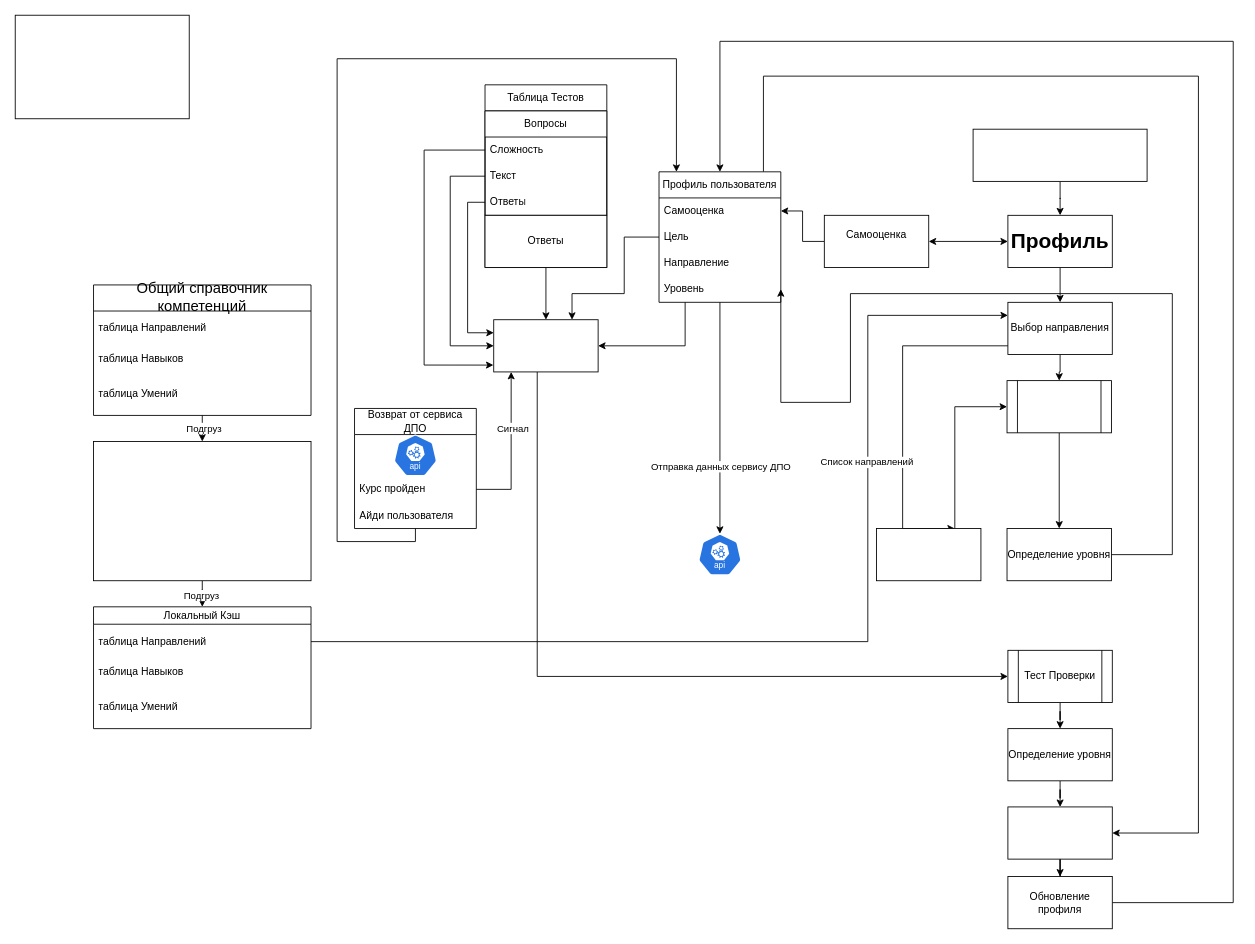
Image size: 1255x944. Some labels were removed from this diagram. The shapes that lost their labels are listed below. From the top down, each one's centre as x and y in pixels, then its label:
At pixel 101 66: "Перемещение данных Аккредитация".
At pixel 1059 154: "Авторизация".
At pixel 545 345: "Конструктор тестов".
At pixel 1058 406: "Первый тест".
At pixel 202 511: "Глобальный Кэш".
At pixel 928 554: "Конструктор вводного теста определения уровня".
At pixel 1059 832: "Сравнение профилей".
